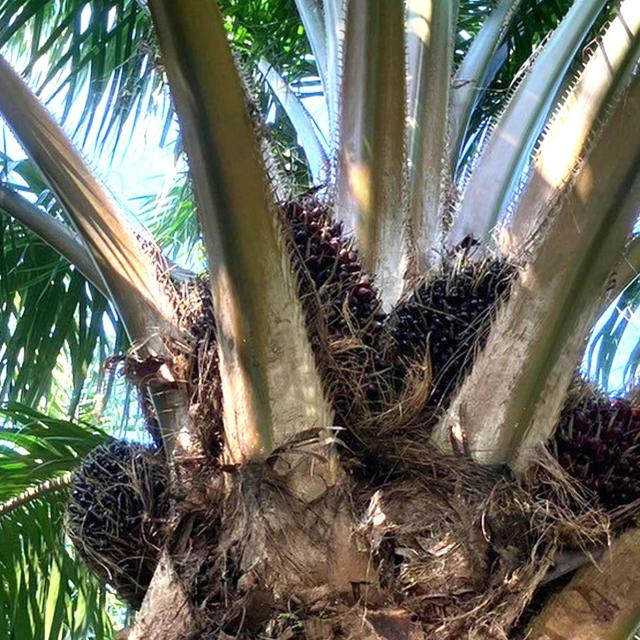ripe: (178, 182, 390, 408)
